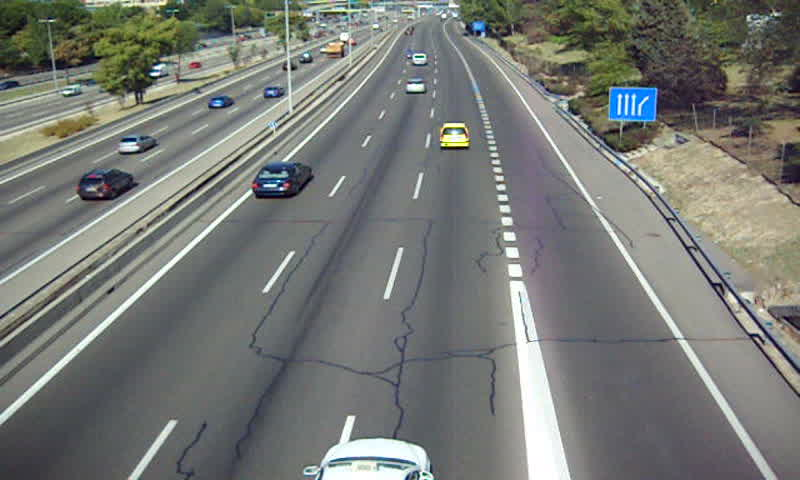car: (253, 162, 311, 197), (439, 122, 470, 149), (406, 77, 426, 95), (411, 52, 427, 65)
